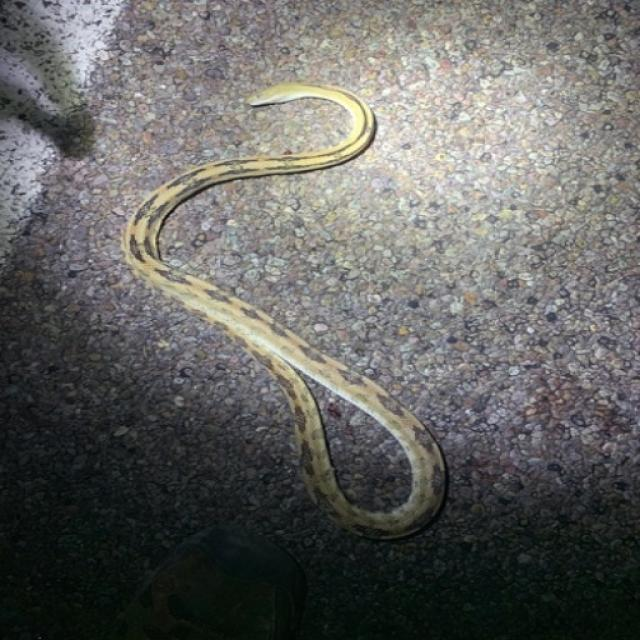snake: (114, 68, 463, 541)
